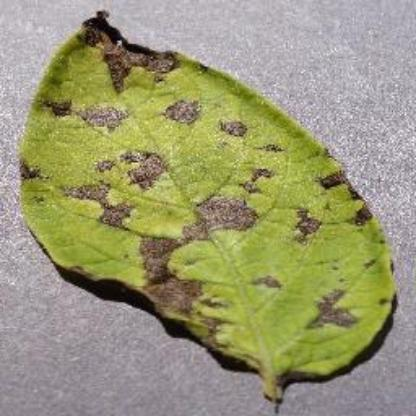Early-Blight: (19, 8, 397, 402)
